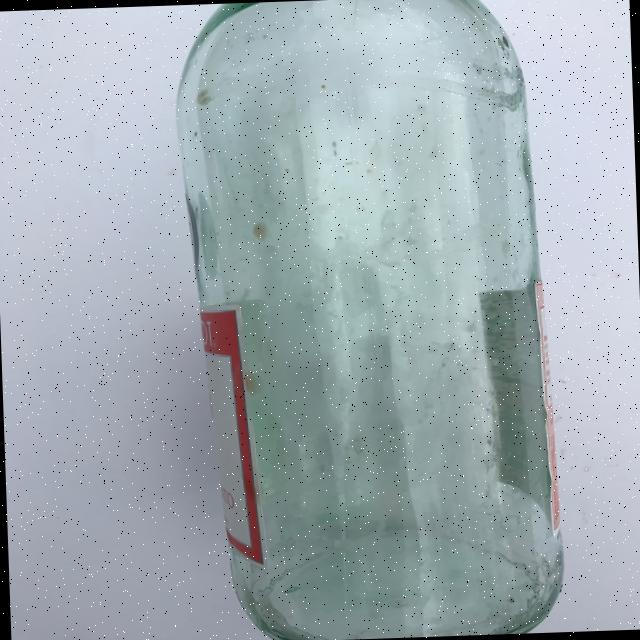glass: (171, 0, 567, 640)
